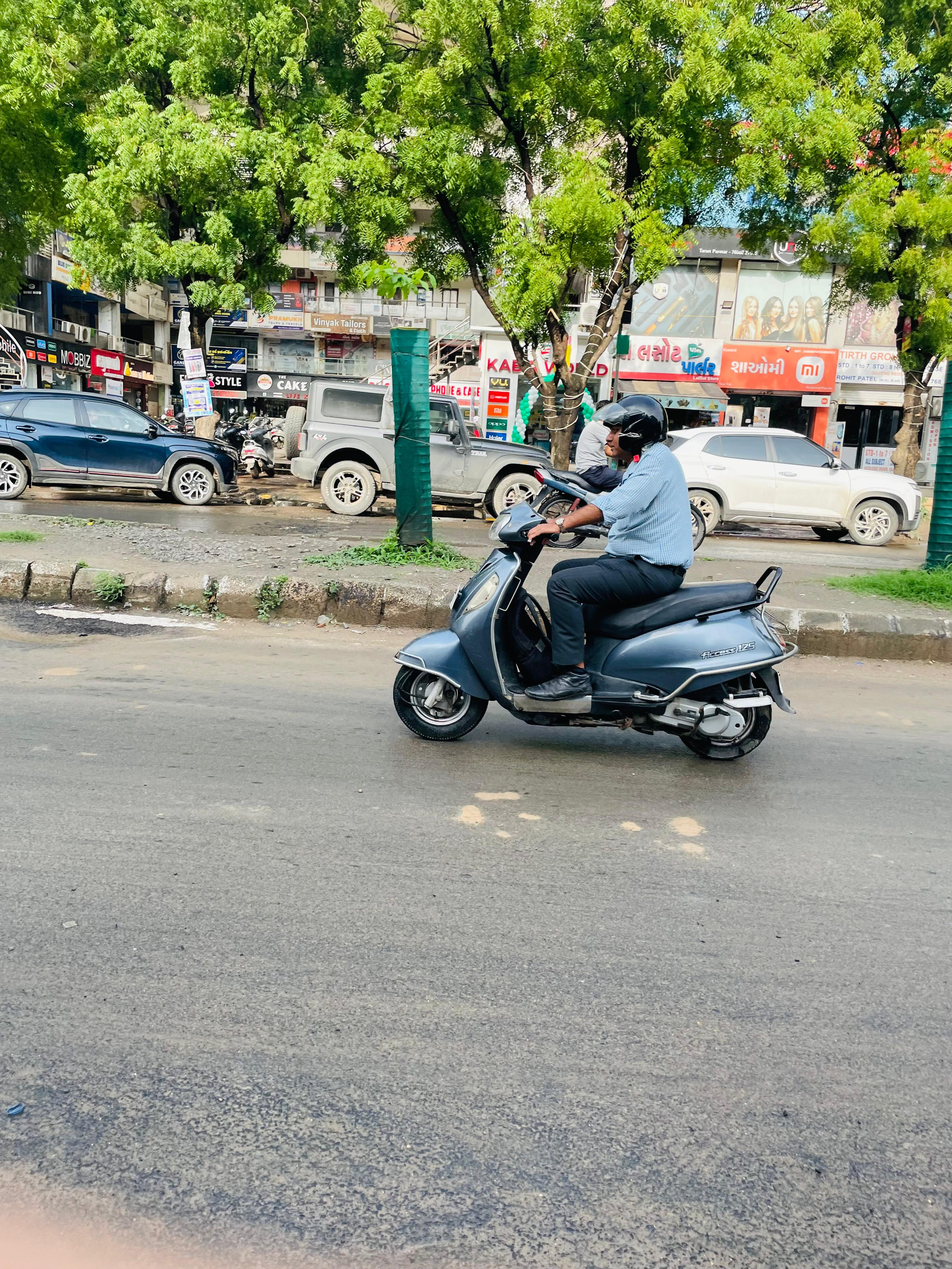BikeWithRider: (375, 381, 808, 775)
Helmet: (591, 388, 675, 465)
